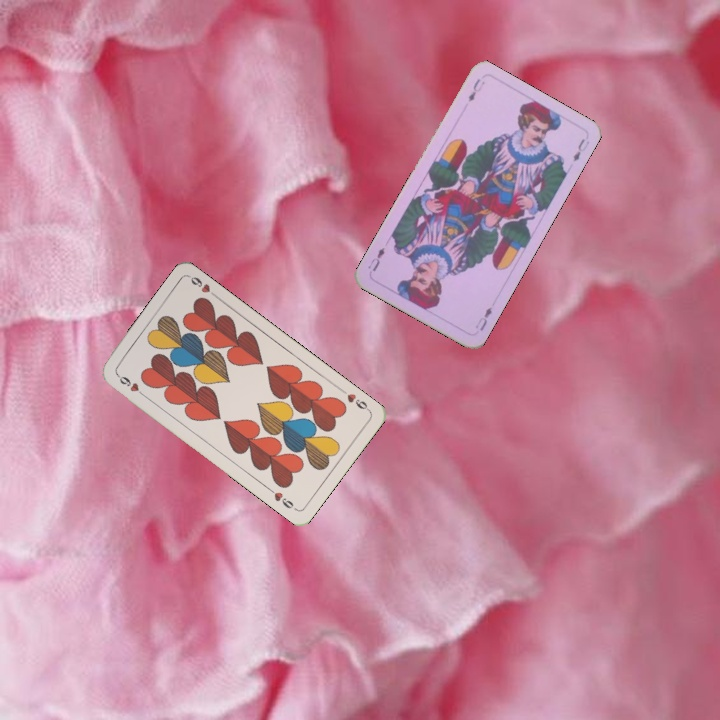EU: (471, 302, 495, 334), (464, 75, 488, 105)
H9: (337, 385, 372, 414), (113, 370, 148, 399)
